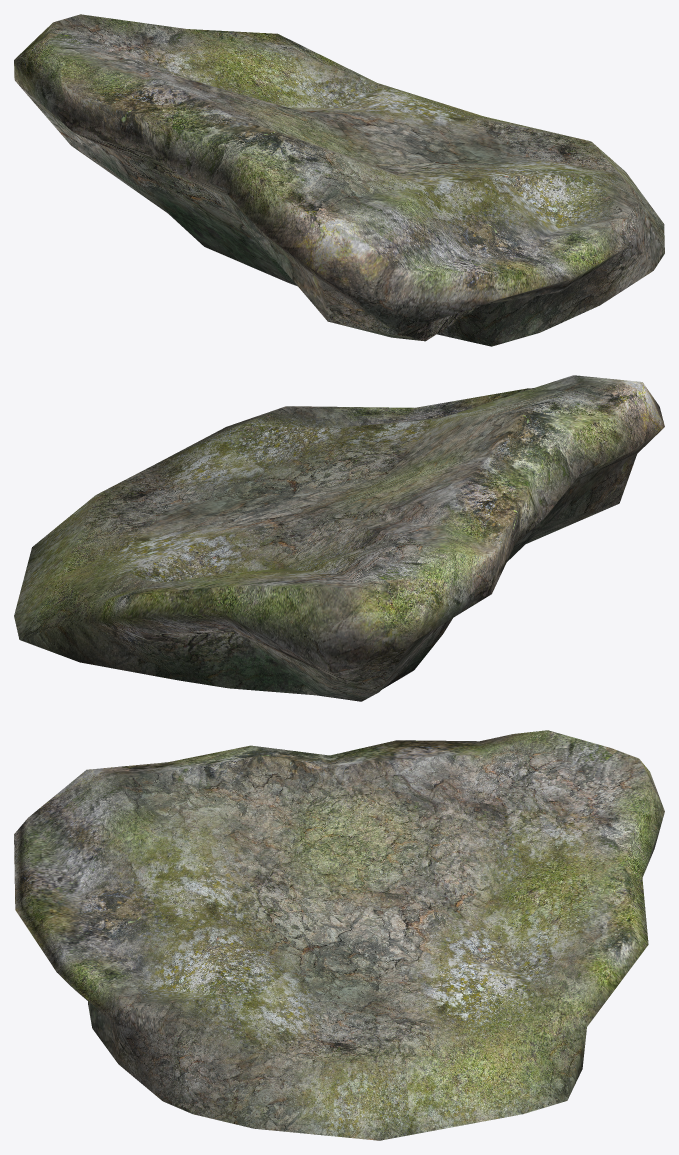
File: rock_008.fbx
3 renders of one model, top to bottom at view 1: azimuth 30°, elevation 25°; view 2: azimuth 150°, elevation 25°; view 3: azimuth 270°, elevation 25°, orthographic. The views are drawn at different scales.
Parts seen in each view (by area): view 1: rock_008; view 2: rock_008; view 3: rock_008.
Boxes of the visible parts, x1,y1,x2,y2 form: rock_008: (14, 14, 664, 346); rock_008: (14, 375, 664, 701); rock_008: (14, 730, 664, 1140).
Size of the model in its own units: 612 by 215 by 689.
Materials: 1 (1 with a texture image).
